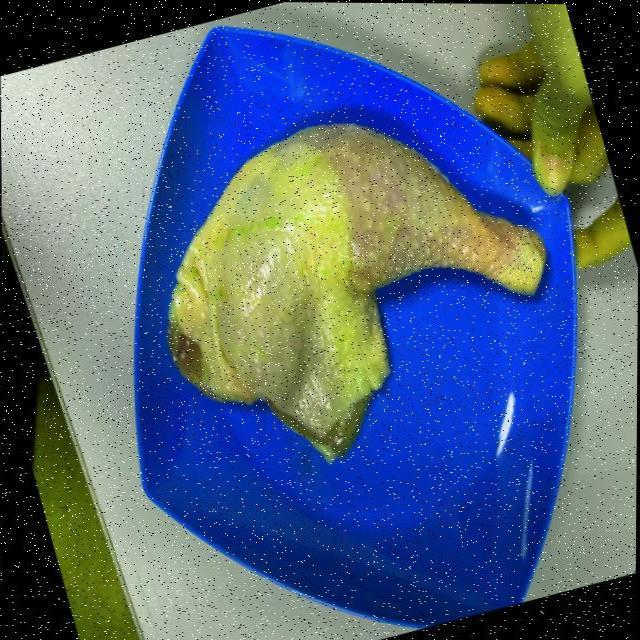quater: (160, 116, 548, 450)
